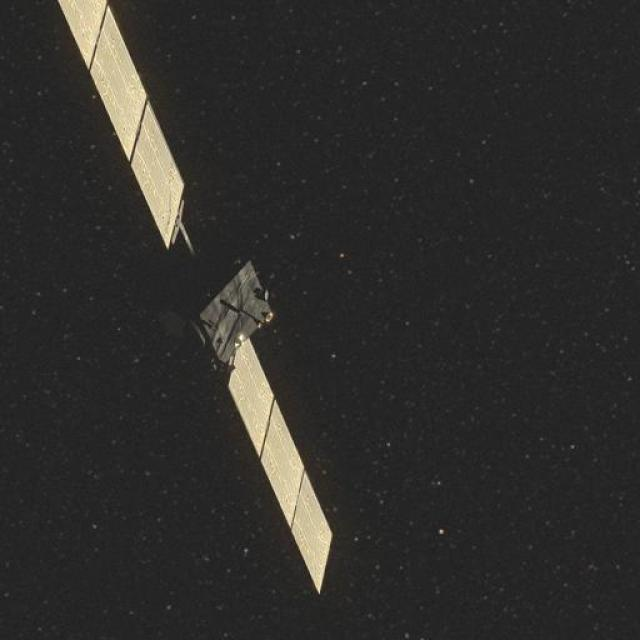smart_1: (112, 100, 320, 528)
